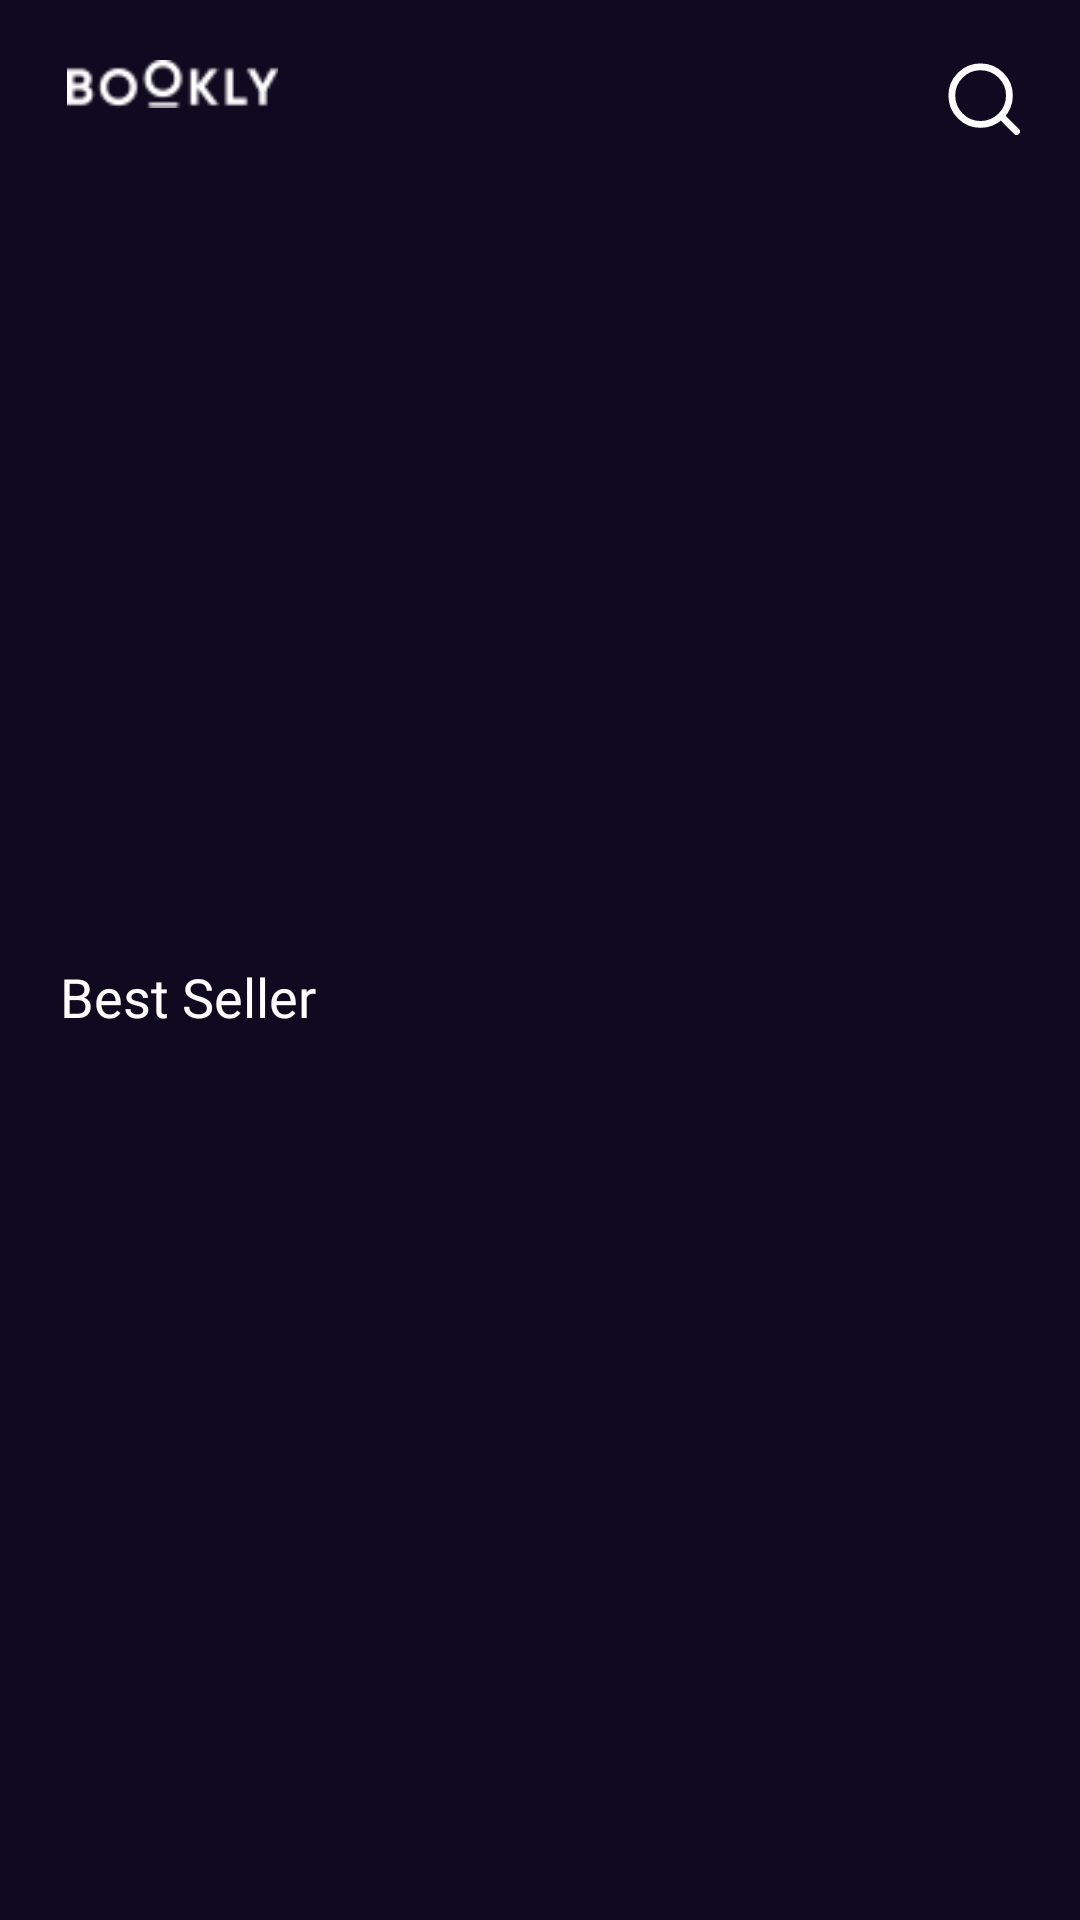

Point at icon controls on the screen. Image size 1080 × 1920, points as (x,y).
search: (984,99)
